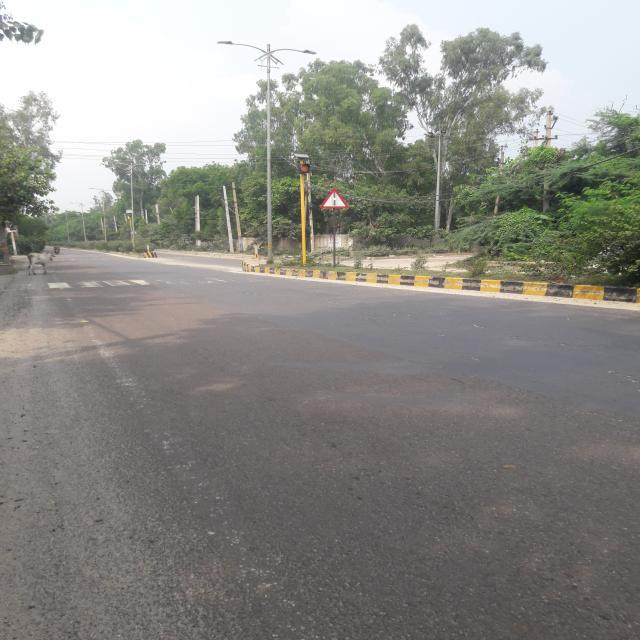gap in median: (319, 188, 350, 210)
